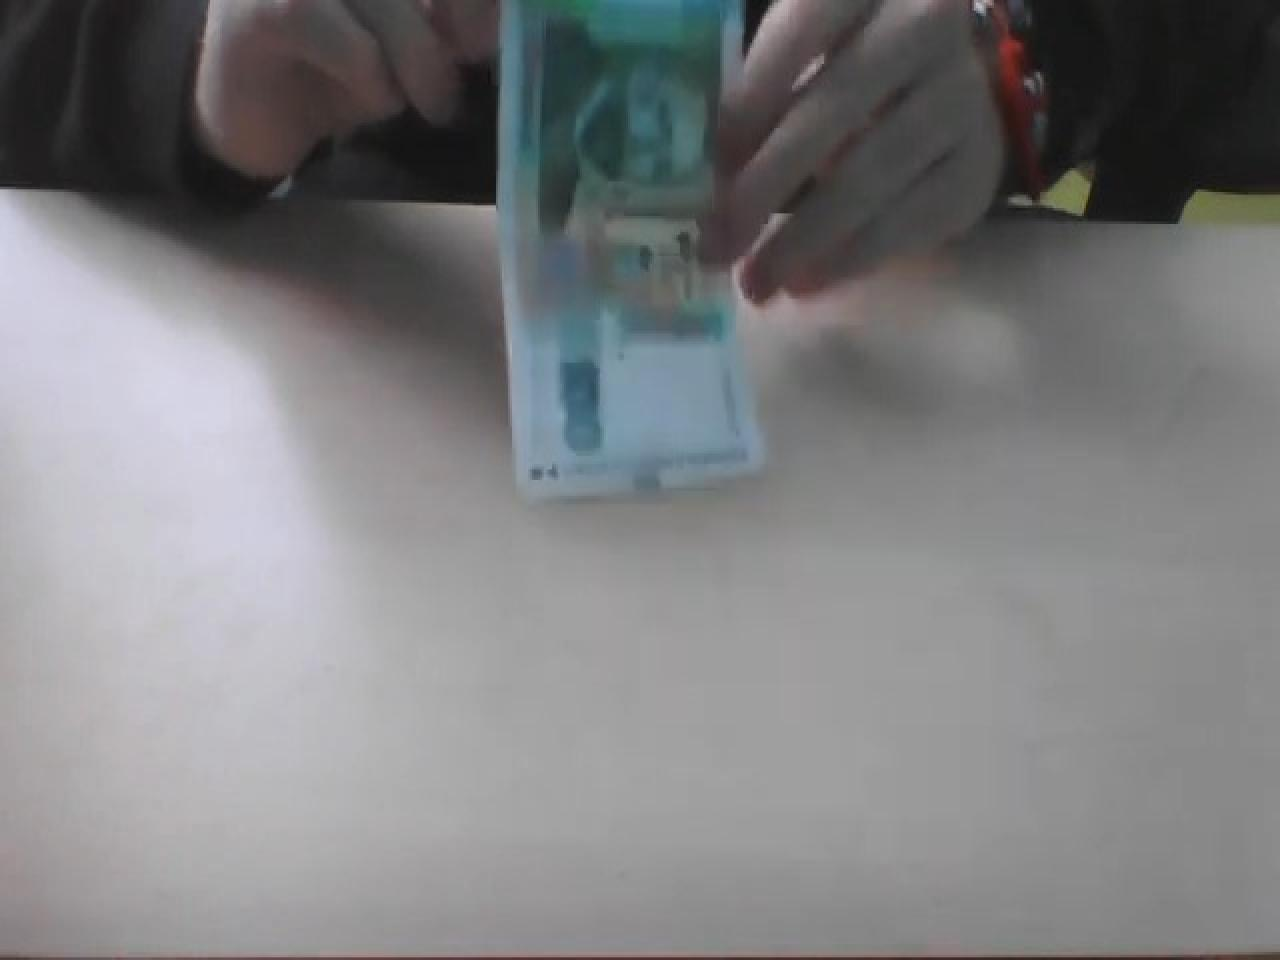100leva: (494, 0, 768, 506)
